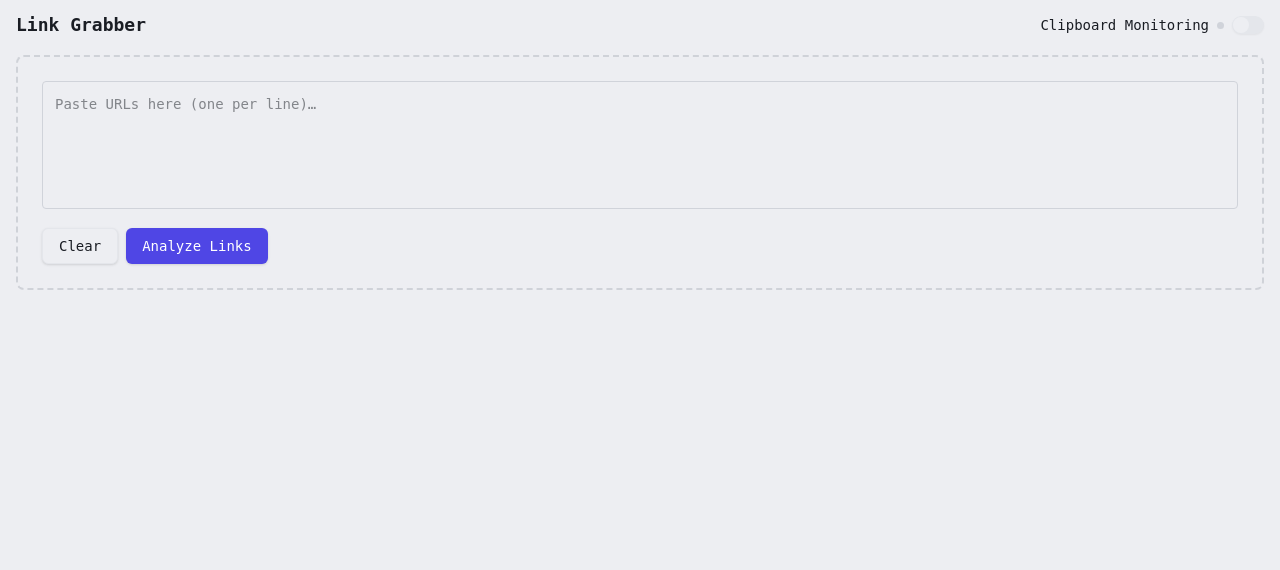
Test case: LinkGrabberView › should clear resolved links when Clear is clicked
The image size is (1280, 570).
Type "https://example.com/file.zip" into the text box at point(640, 145), box [42,81,1238,209]
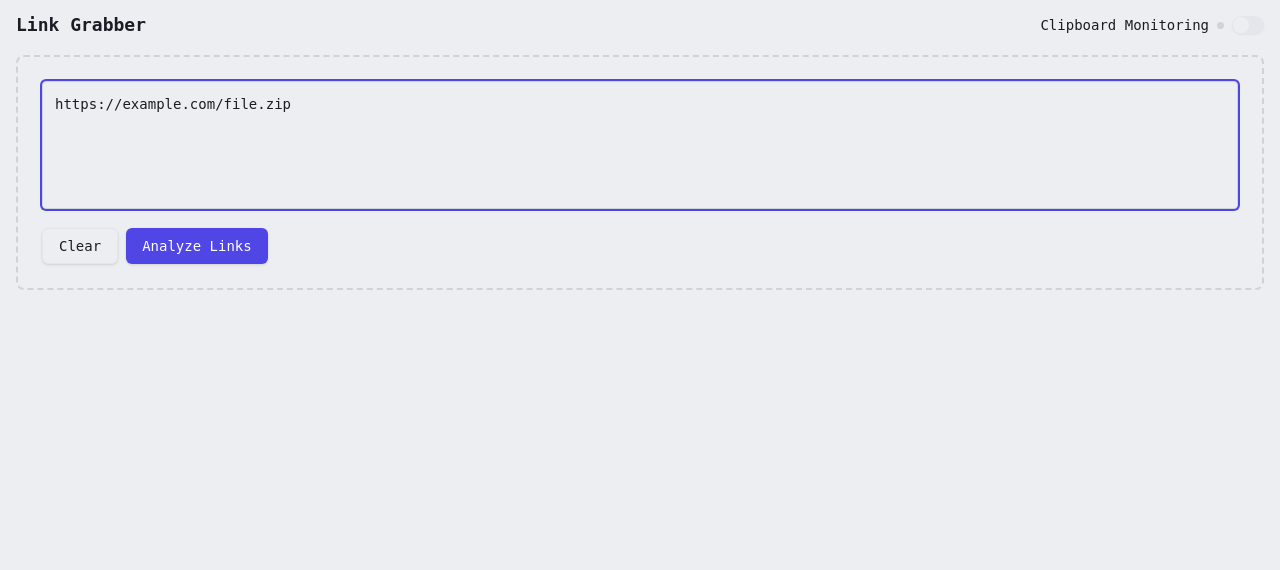
Click the button "Analyze Links" at point(197, 246), box [126,228,268,264]
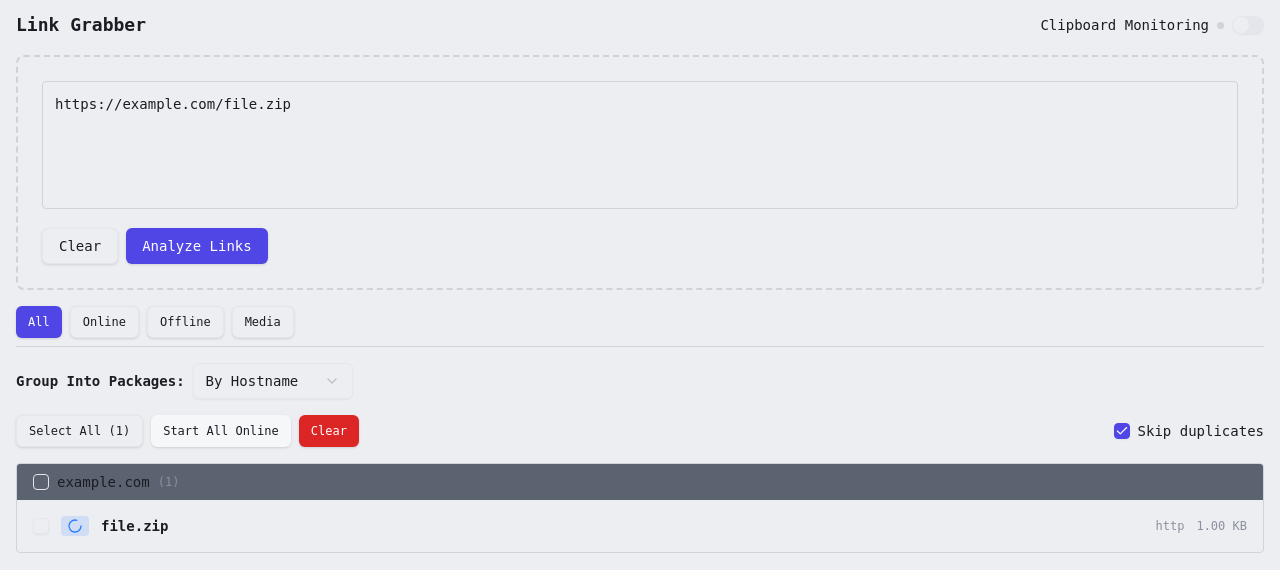
Now the button "Select All (1)" is shown, box [16,415,143,447]
ActionsBar "Clear" button is the destructive one (last among Clear buttons)
Click the button "Clear" in the row of "Skip duplicates" at point(329, 431), box [299,415,359,447]
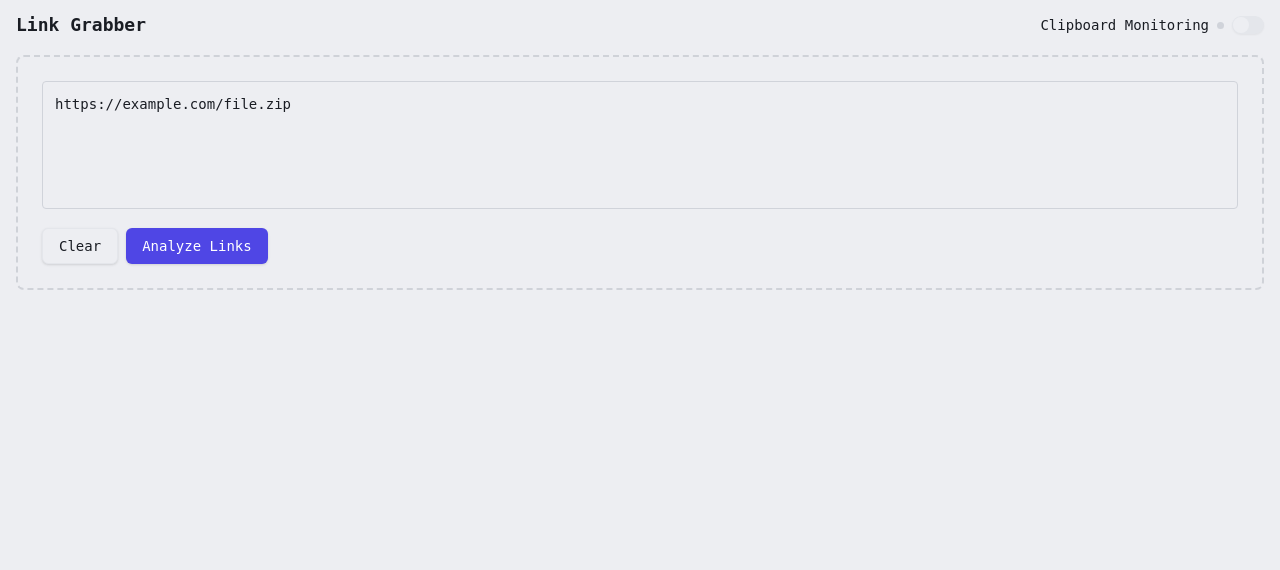
Now the button "All" is gone
